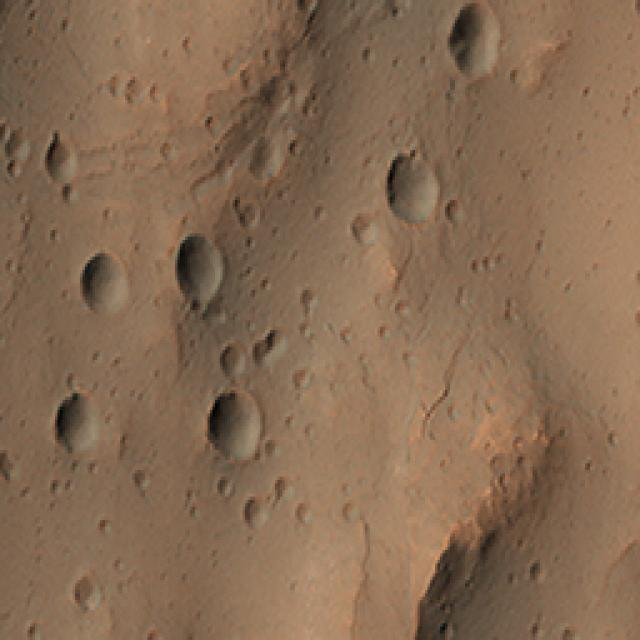Crater: (20, 336, 122, 486), (185, 350, 283, 500), (52, 216, 148, 326), (427, 0, 524, 103), (165, 203, 230, 340)
